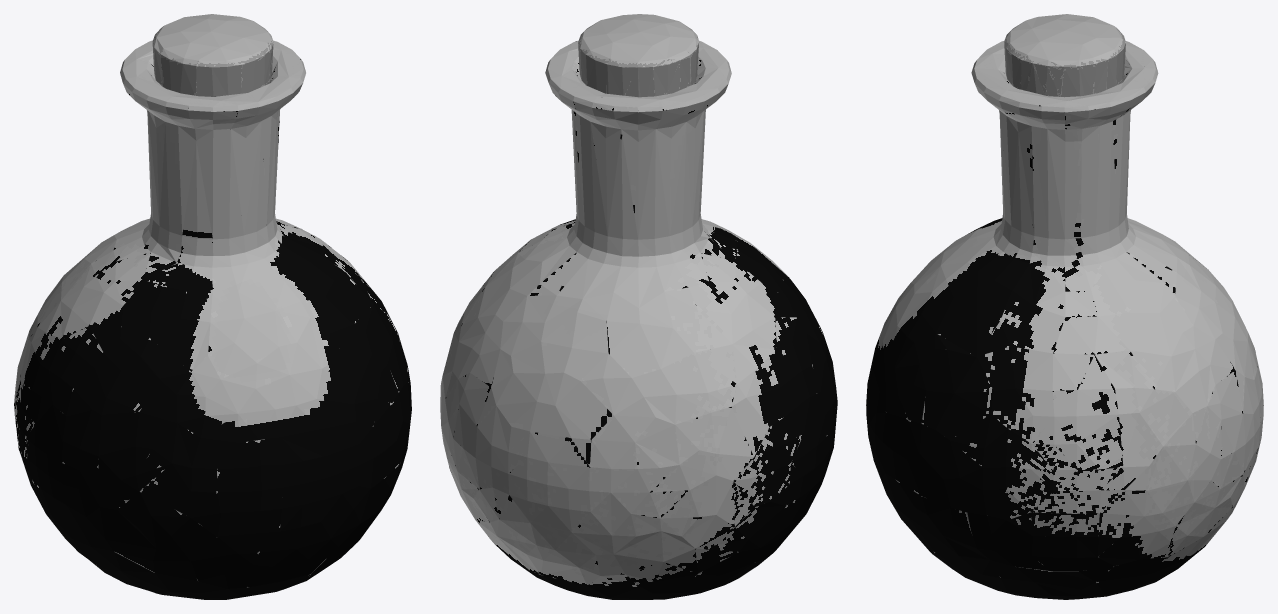
3 renders of one model, left to right at view 1: azimuth 30°, elevation 25°; view 2: azimuth 150°, elevation 25°; view 3: azimuth 270°, elevation 25°, orthographic.
Parts seen in each view (by area): view 1: OBJ0bb; view 2: OBJ0bb; view 3: OBJ0bb.
Boxes of the visible parts, bbox=[...] form: OBJ0bb: bbox=[14, 14, 411, 599]; OBJ0bb: bbox=[440, 14, 837, 599]; OBJ0bb: bbox=[866, 14, 1263, 599].
Size of the model in its own units: 0.1627 by 0.236 by 0.1627.
Materials: 1 (1 with a texture image).
